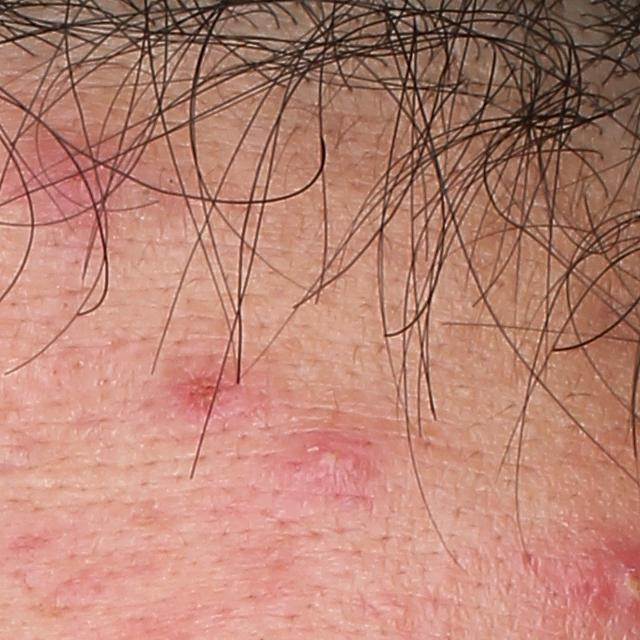papule: (168, 368, 240, 424)
pustule: (279, 432, 368, 494)
